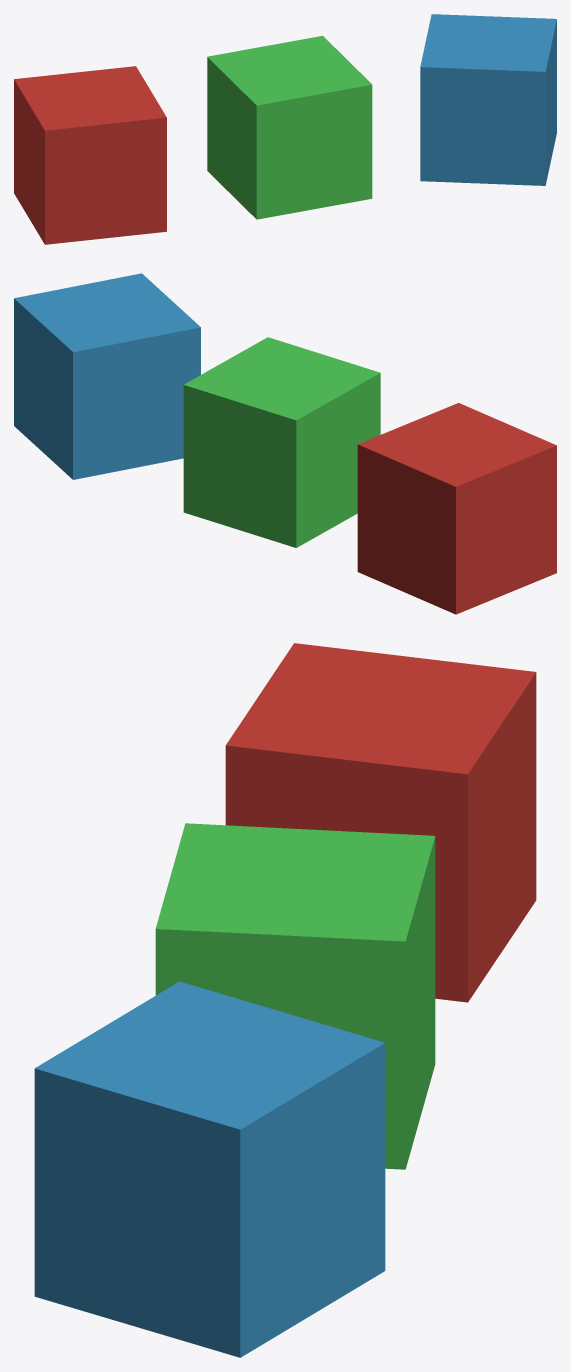
3 views of the same model, one above another, from view 1: azimuth 30°, elevation 25°; view 2: azimuth 150°, elevation 25°; view 3: azimuth 270°, elevation 25° (orthographic). The views are drawn at different scales.
Parts seen in each view (by area): view 1: GreenCube, RedCube, BlueCube; view 2: RedCube, GreenCube, BlueCube; view 3: BlueCube, RedCube, GreenCube.
Part boxes in pixels (x1,y1,x2,y2): GreenCube: (207,35,372,219); RedCube: (14,66,166,244); BlueCube: (420,14,556,185); RedCube: (357,403,556,614); GreenCube: (183,337,380,547); BlueCube: (14,273,200,479); BlueCube: (34,981,385,1357); RedCube: (225,643,536,1002); GreenCube: (155,823,435,1169).
Bounding box in the file's own units: 3.66 × 0.8 × 1.59.
